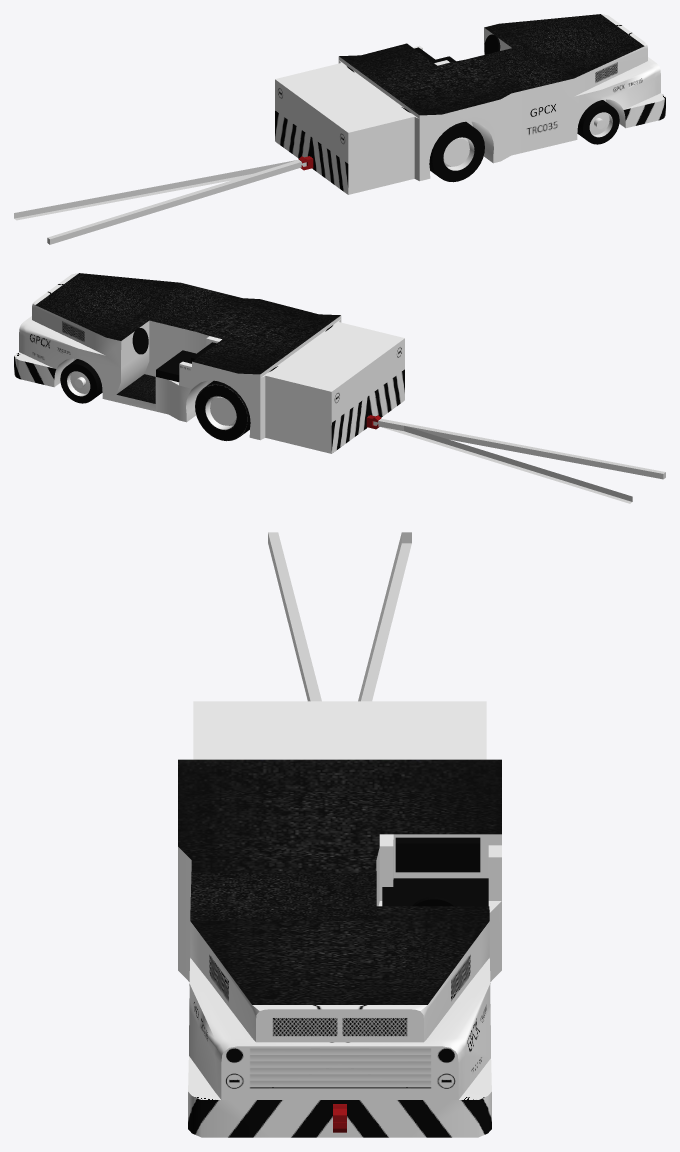
The model's file is pushback truck carrier.glb.
The picture shows the model from 3 angles, top to bottom: view 1: azimuth 30°, elevation 25°; view 2: azimuth 150°, elevation 25°; view 3: azimuth 270°, elevation 25°; orthographic projection. The views are drawn at different scales.
Visible parts, largest first — view 1: Cube, Cube.004, Cylinder, Cylinder.001; view 2: Cube, Cube.004, Cylinder, Cylinder.001, Cube.003, Cylinder.002; view 3: Cube, Cube.003, Cube.004.
Part boxes in pixels (x1,y1,x2,y2): Cube: [275, 14, 665, 194]; Cube.004: [14, 159, 306, 244]; Cylinder: [429, 121, 484, 182]; Cylinder.001: [577, 100, 619, 144]; Cube: [14, 273, 404, 453]; Cube.004: [373, 418, 665, 503]; Cylinder: [195, 380, 250, 441]; Cylinder.001: [60, 359, 102, 403]; Cube.003: [156, 342, 216, 382]; Cylinder.002: [132, 328, 148, 354]; Cube: [178, 701, 501, 1137]; Cube.003: [382, 837, 488, 906]; Cube.004: [268, 532, 411, 701].
Size of the model in its own units: 9.02 by 1.11 by 2.07.
2 materials, 1 textured.
